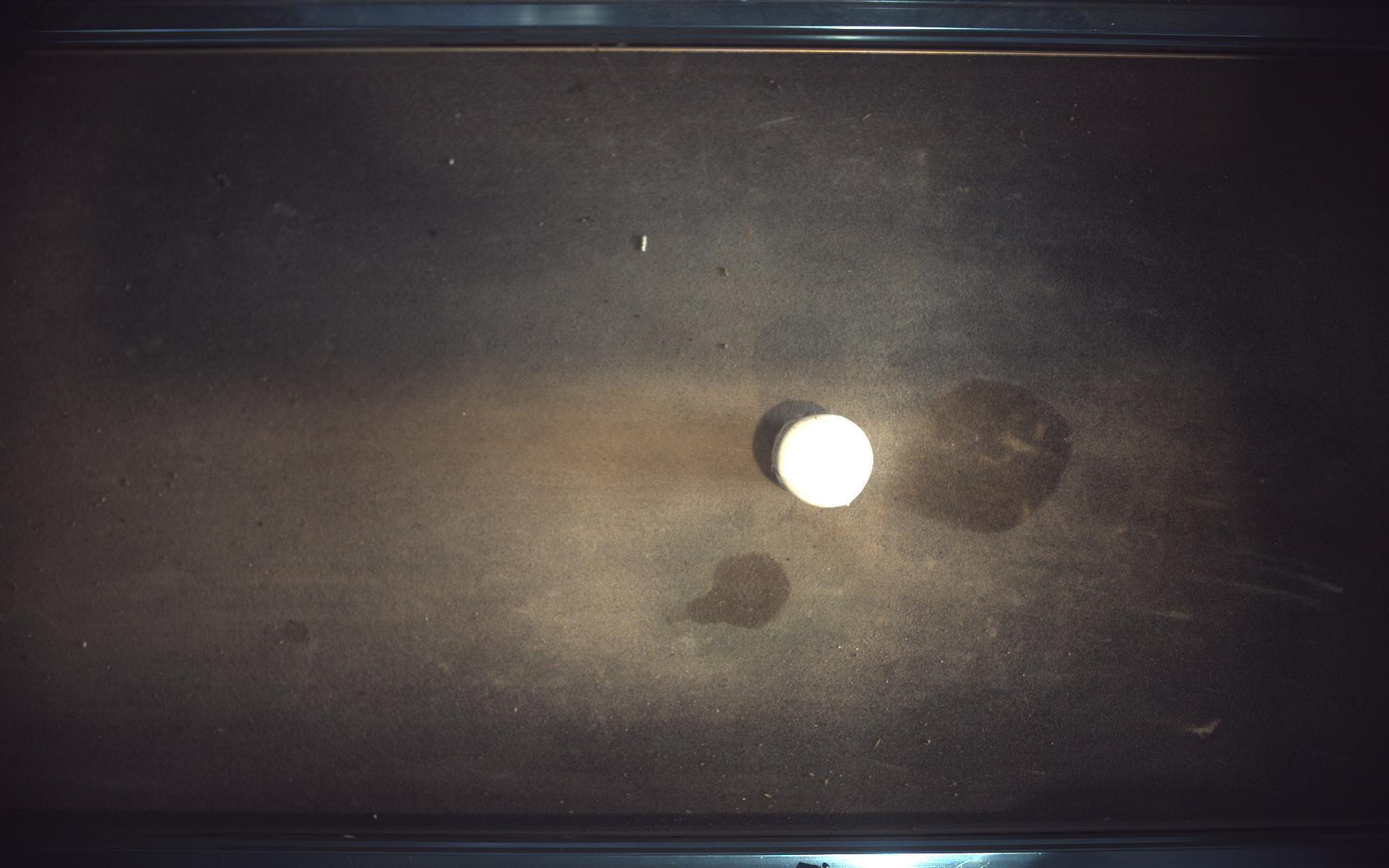general_w: (774, 414, 875, 508)
